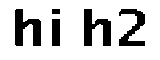2: (117, 6, 150, 52)
h: (10, 6, 43, 53), (80, 6, 113, 50)
i: (49, 5, 66, 53)
